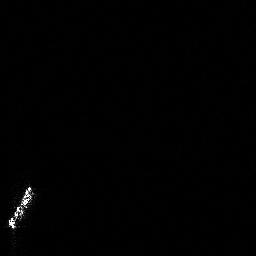ship: (3, 183, 40, 233)
